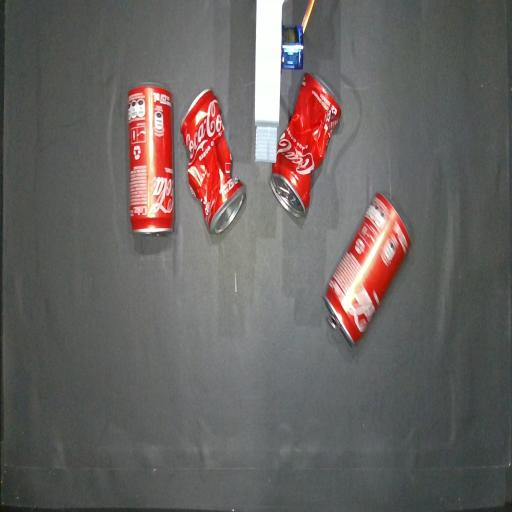lata: (326, 194, 410, 342), (128, 85, 174, 234)
lata_defectuoso: (270, 73, 341, 218), (181, 90, 245, 233)
